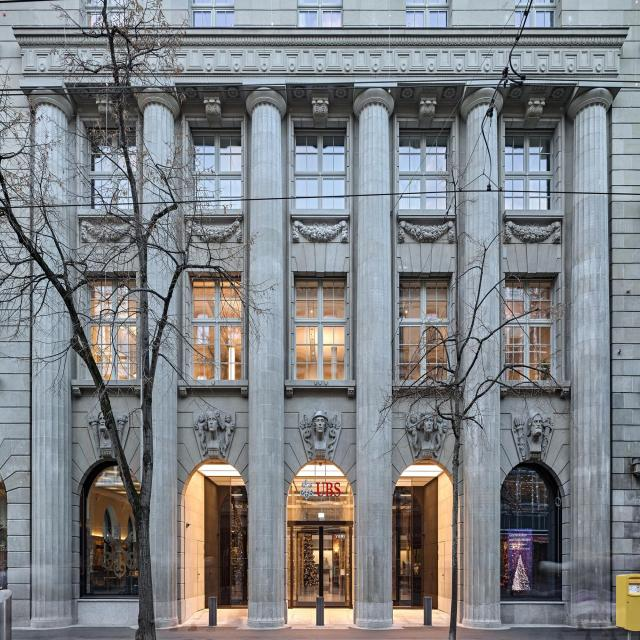door: (292, 522, 353, 612)
window: (502, 464, 562, 603), (80, 460, 140, 597), (190, 276, 246, 381), (397, 277, 452, 382), (291, 276, 346, 380), (503, 279, 553, 383), (87, 278, 137, 377), (393, 478, 425, 607), (505, 131, 553, 211), (296, 128, 344, 208), (194, 126, 242, 206), (401, 132, 449, 211), (87, 127, 135, 206), (221, 489, 249, 604), (86, 0, 128, 29), (515, 3, 557, 27), (407, 5, 449, 29), (298, 0, 340, 24), (195, 2, 237, 26)
